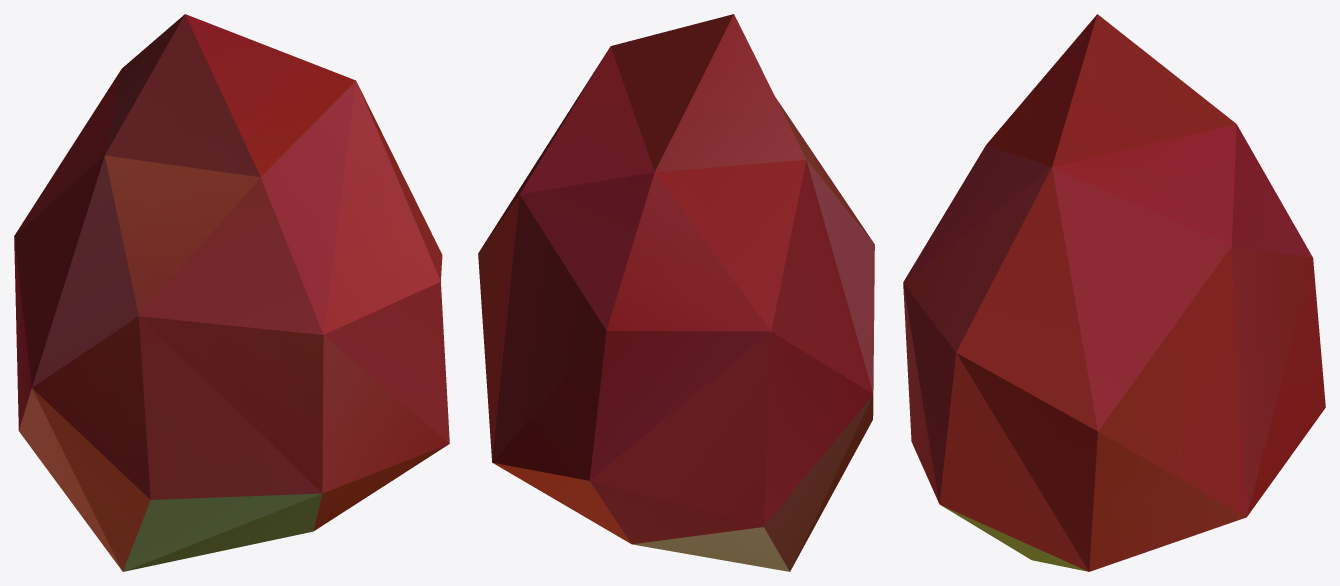
3 views of the same model, side by side, from view 1: azimuth 30°, elevation 25°; view 2: azimuth 150°, elevation 25°; view 3: azimuth 270°, elevation 25° (orthographic). The views are drawn at different scales.
Parts seen in each view (by area): view 1: strawberry_09_visual; view 2: strawberry_09_visual; view 3: strawberry_09_visual.
Boxes of the visible parts, box(x1,y1,x2,y2) form: strawberry_09_visual: box(14, 14, 449, 571); strawberry_09_visual: box(478, 14, 874, 571); strawberry_09_visual: box(903, 14, 1325, 571).
Bounding box in the file's own units: 0.7187 × 0.6693 × 0.9265.
